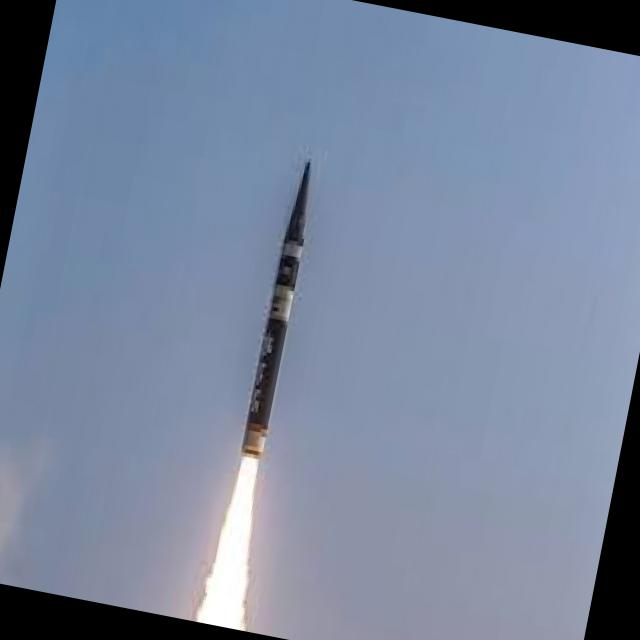rocket: (228, 145, 329, 499)
